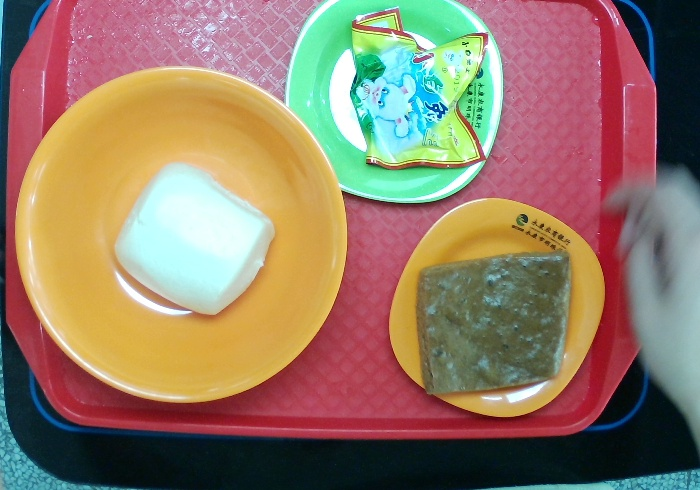YKMZ-Ju_Se_Fang_Die: (378, 193, 610, 426)
YKMZ-Ju_Se_Tang_Wan: (9, 62, 352, 409)
YKMZ-Lv_Se_Fang_Die: (274, 1, 511, 215)
